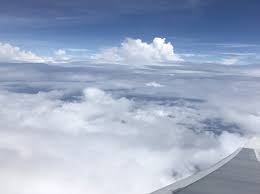sky: (1, 3, 260, 193)
